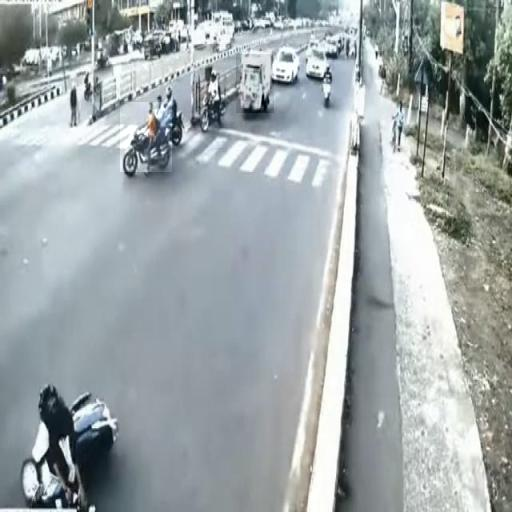小汽车: (236, 54, 274, 113), (273, 47, 301, 82)
自行车: (120, 102, 172, 172), (200, 74, 231, 130)
